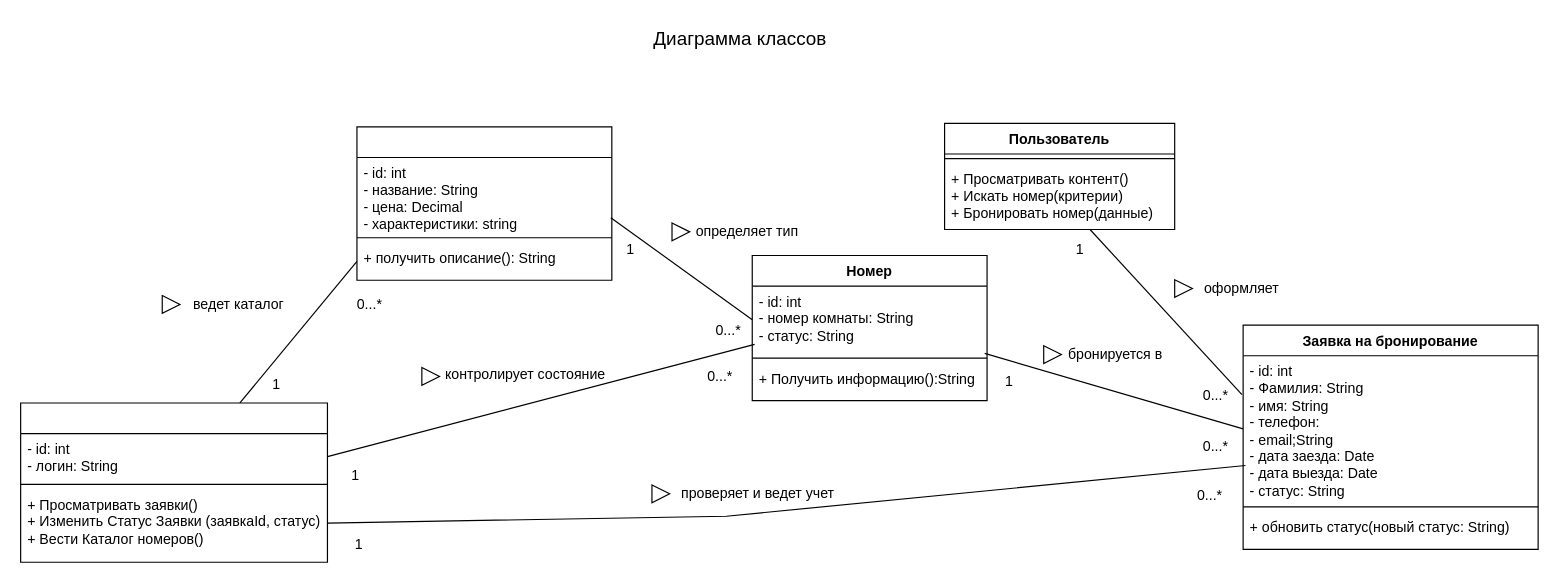
The diagram is 1559 pixels wide and 585 high, and some of its shapes have lost their labels. Here are the shapes that lost their labels. From the top down, the box of each, then its label:
(356, 126, 612, 280): Категория номера
(19, 402, 327, 562): Администратор
